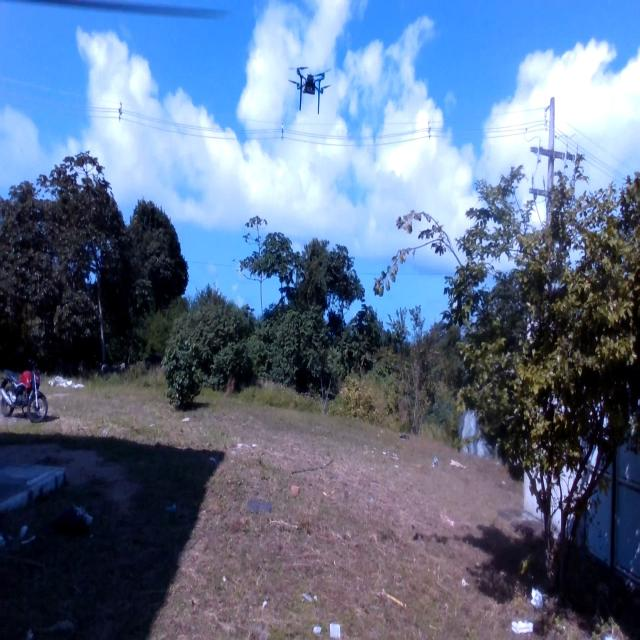-uav-: (278, 55, 334, 118)
